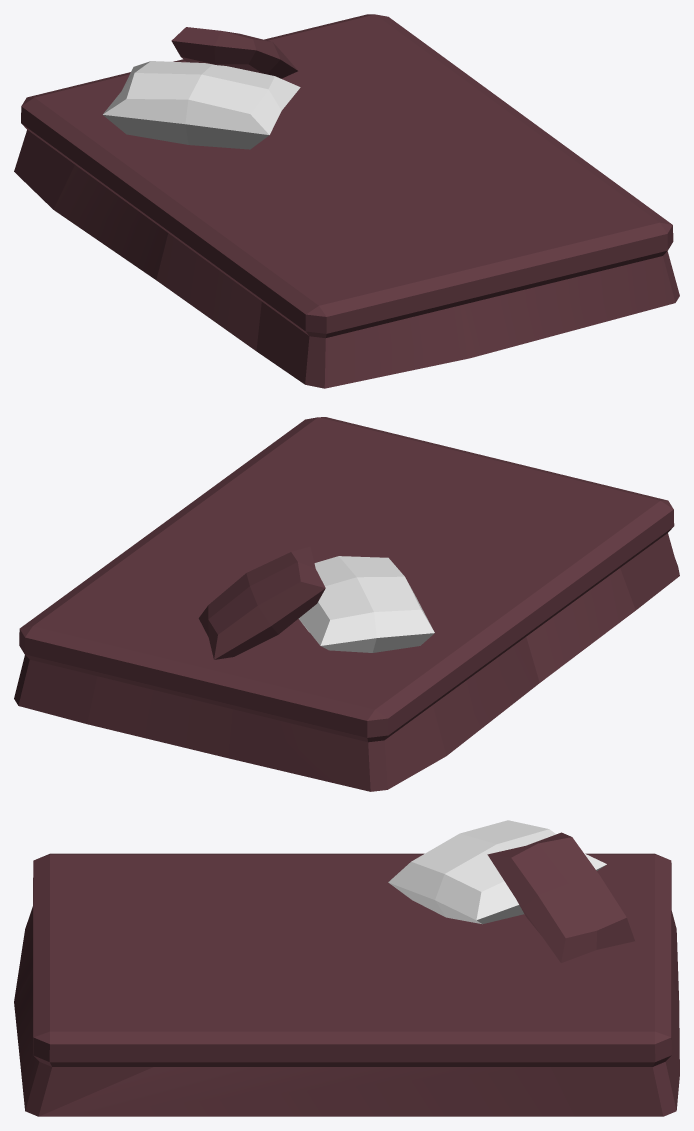
File: SM_Mattress_Large_Empire.fbx
The picture shows the model from 3 angles, top to bottom: view 1: azimuth 30°, elevation 25°; view 2: azimuth 150°, elevation 25°; view 3: azimuth 270°, elevation 25°; orthographic projection. The views are drawn at different scales.
Parts seen in each view (by area): view 1: SM_Mattress_Large_Empire; view 2: SM_Mattress_Large_Empire; view 3: SM_Mattress_Large_Empire.
Part boxes in pixels (x1,y1,x2,y2): SM_Mattress_Large_Empire: (14,14,679,388); SM_Mattress_Large_Empire: (14,417,679,791); SM_Mattress_Large_Empire: (14,820,679,1116).
Size of the model in its own units: 1.75 by 0.648 by 2.49.
